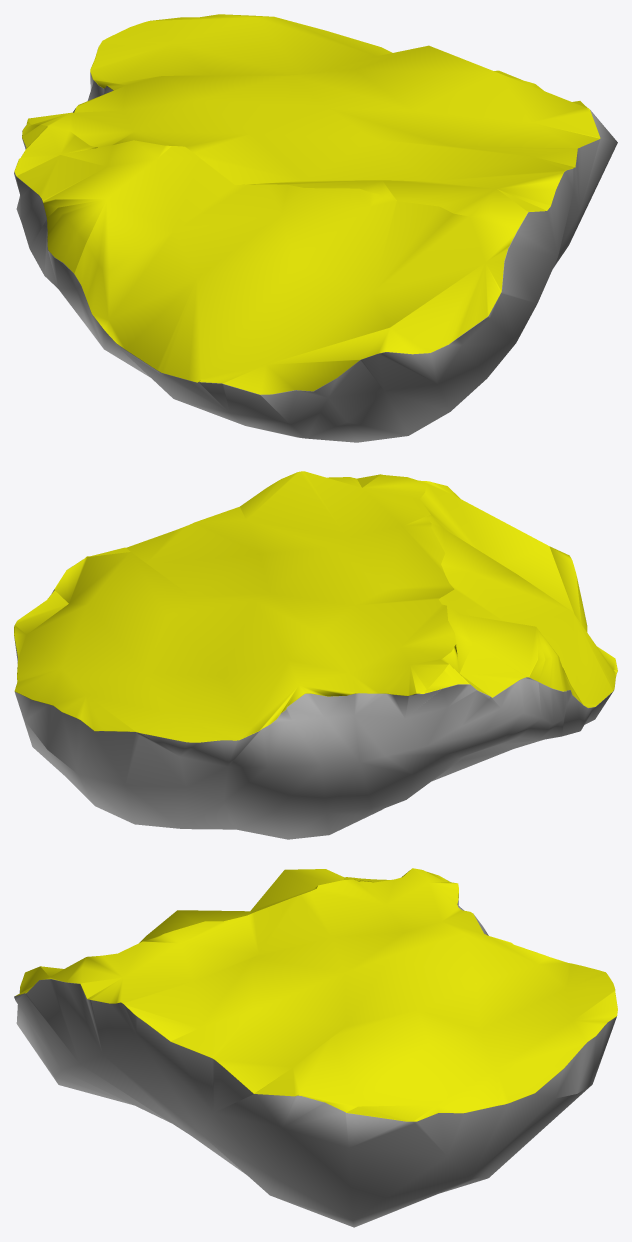
File: Rock_01_02.fbx
The picture shows the model from 3 angles, top to bottom: view 1: azimuth 30°, elevation 25°; view 2: azimuth 150°, elevation 25°; view 3: azimuth 270°, elevation 25°; orthographic projection. The views are drawn at different scales.
Parts seen in each view (by area): view 1: shard5; view 2: shard5; view 3: shard5.
Part boxes in pixels (x1,y1,x2,y2): shard5: [14, 14, 617, 442]; shard5: [14, 471, 617, 839]; shard5: [14, 868, 617, 1227].
Size of the model in its own units: 123 by 54 by 140.
